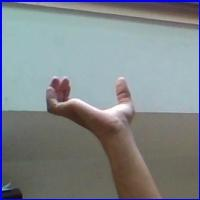B: (43, 69, 147, 137)
